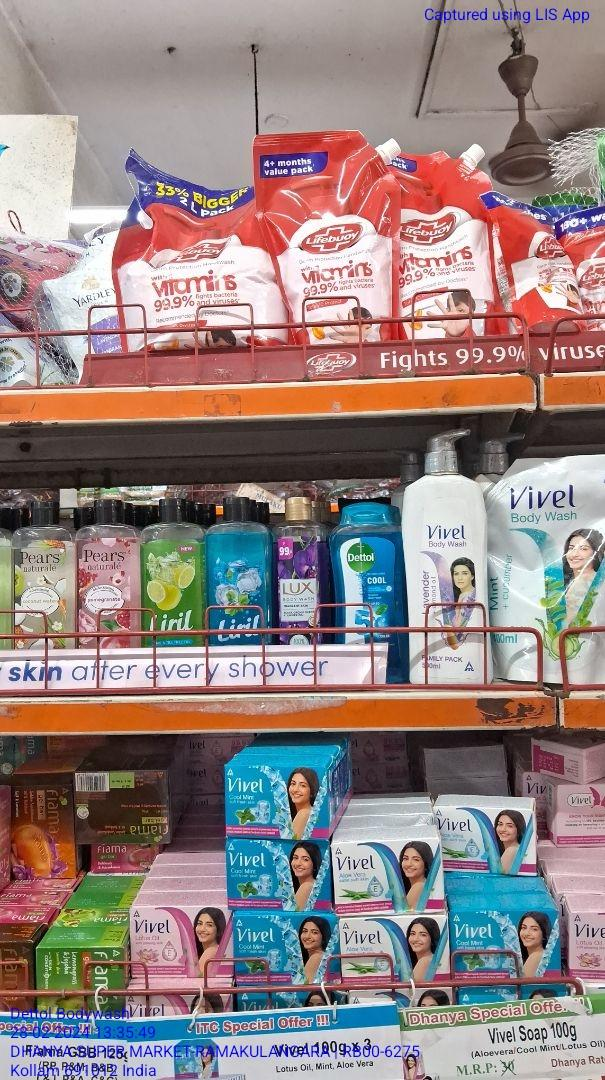Dettol_Bodywash_Cool: (333, 501, 409, 683)
Liril_Cooling_Mint_Body_Wash_250ML: (208, 494, 269, 647)
Liril_Lime_and_Tea_Tree_Oil_Body_Wash_250ML: (140, 496, 205, 649)
Lux_Black_Orchid_Scent_and_Juniper_Oil_Body_Wash_245ML: (275, 493, 330, 648)
